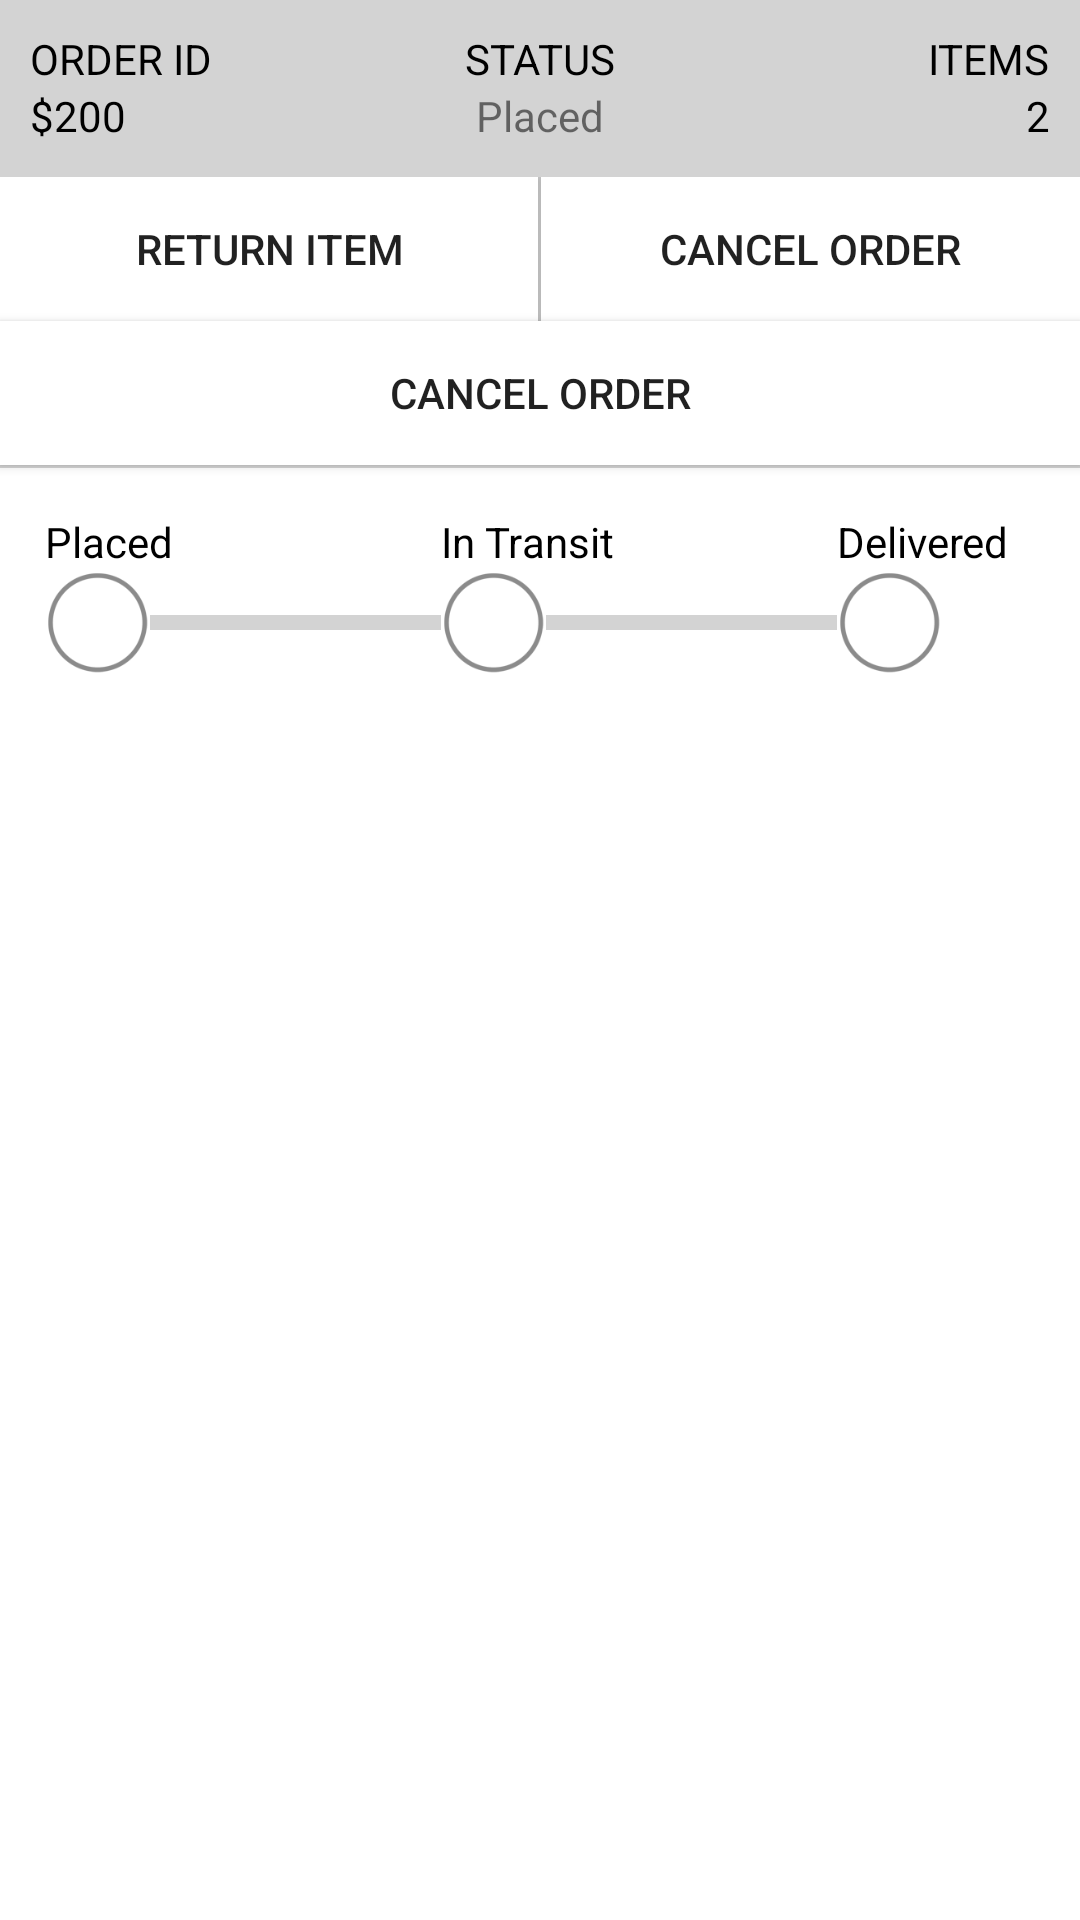

Named icons in this screenshot (1080w x 1920h) and their centers, [x,y]:
status mark off: [98,623], [494,623], [890,623]
